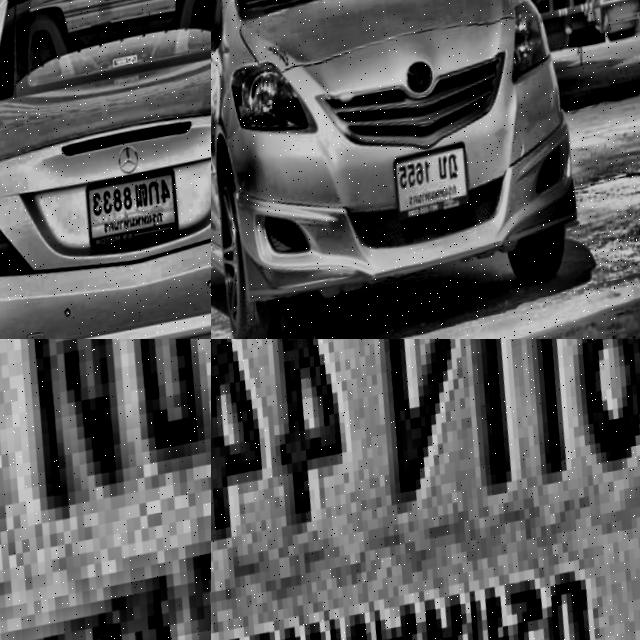license-plate: (211, 339, 640, 640), (0, 339, 211, 640), (86, 168, 193, 255), (394, 145, 487, 241)
